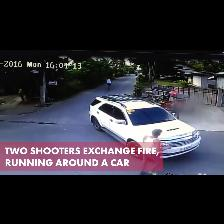person: (140, 153, 161, 174), (171, 101, 179, 119), (18, 88, 24, 102), (107, 79, 111, 89)
